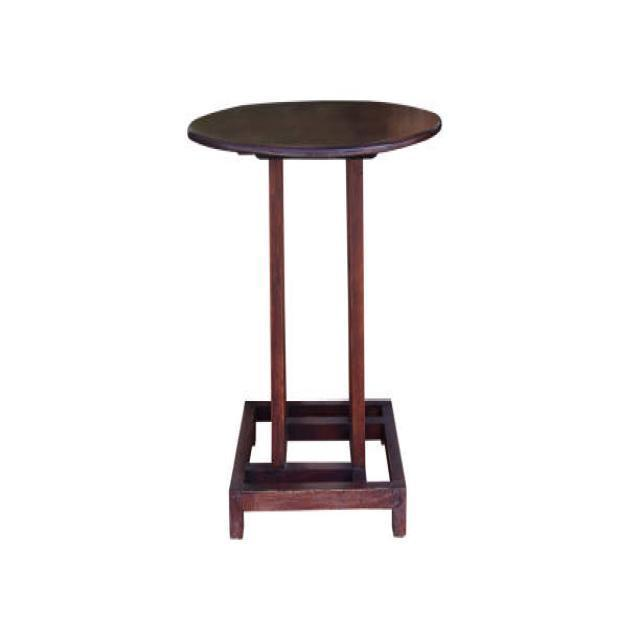table: (186, 97, 442, 540)
